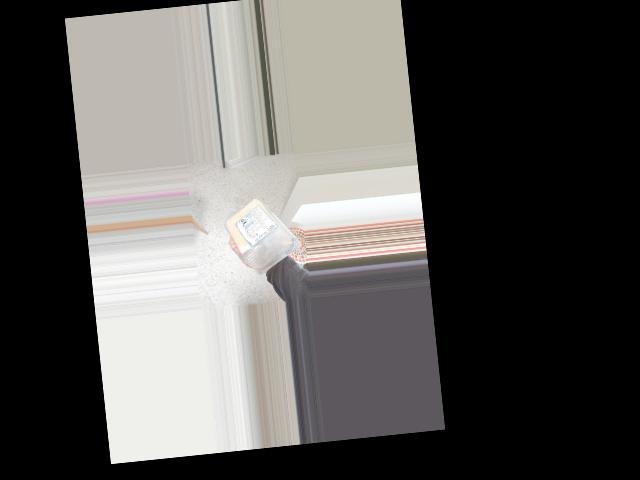cheese: (231, 191, 296, 267)
